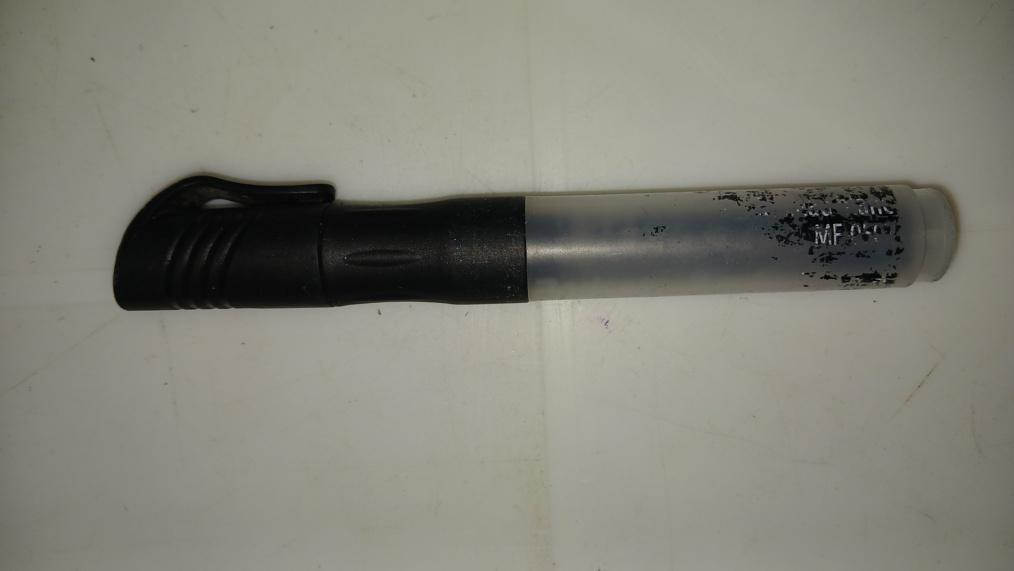Whiteboard marker: (110, 174, 962, 317)
